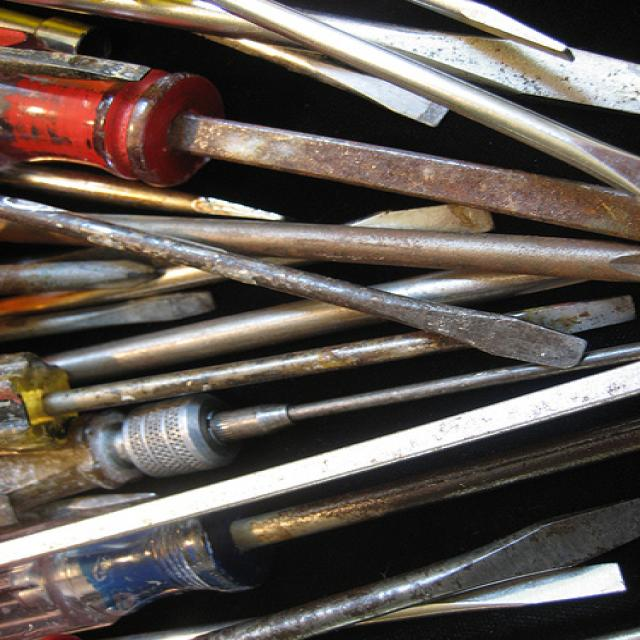Screwdriver: (0, 419, 640, 640), (0, 39, 640, 238), (0, 162, 605, 372), (0, 332, 640, 499)
